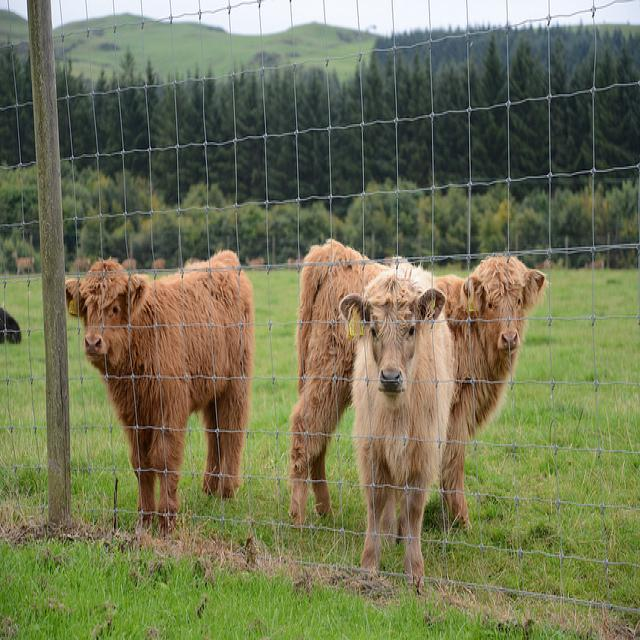cow: (288, 233, 544, 531), (63, 244, 253, 538), (343, 260, 450, 580), (0, 307, 20, 346)
